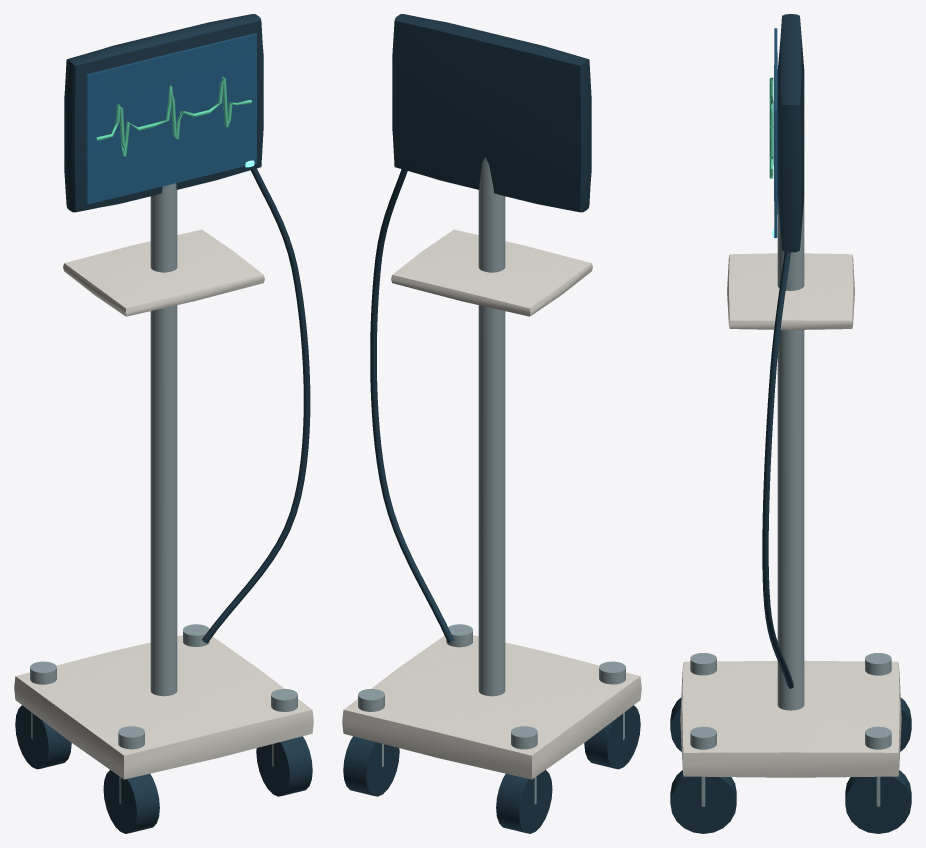
The model's file is medical-monitor.glb.
3 renders of one model, left to right at view 1: azimuth 30°, elevation 25°; view 2: azimuth 150°, elevation 25°; view 3: azimuth 270°, elevation 25°, orthographic.
Visible parts, largest first — view 1: medical-monitor; view 2: medical-monitor; view 3: medical-monitor.
Part boxes in pixels (x1,y1,x2,y2): medical-monitor: [14, 14, 313, 833]; medical-monitor: [342, 14, 641, 833]; medical-monitor: [670, 14, 911, 833].
Bounding box in the file's own units: 0.4521 × 1.39 × 0.414.
16 materials, 16 textured.
